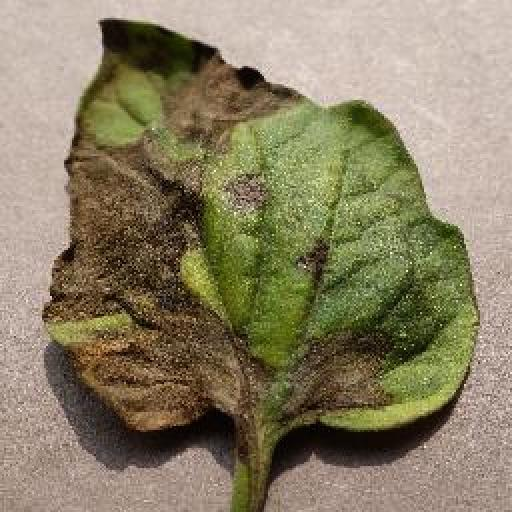disease_tomato: (40, 19, 478, 433)
